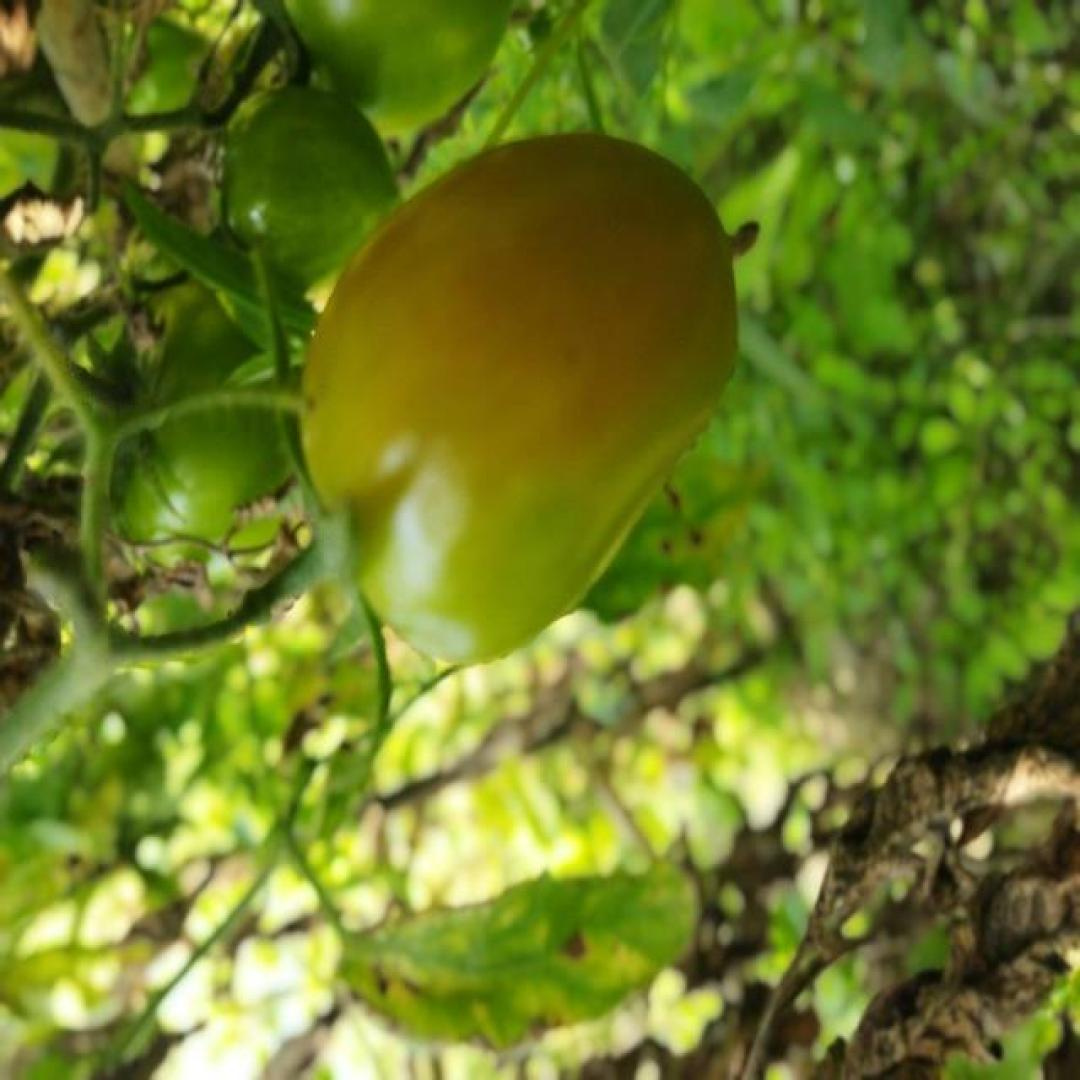setengah_matang: (301, 130, 742, 673)
